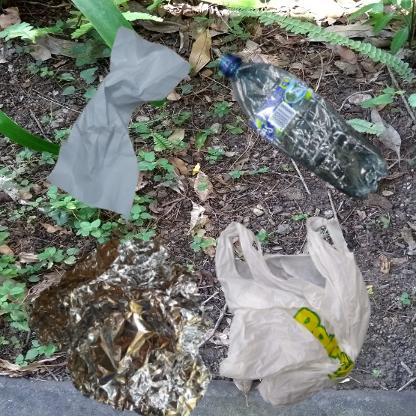aluminio: (10, 213, 246, 416)
bolsa: (213, 213, 375, 412)
botella: (213, 10, 416, 290)
papel: (10, 10, 240, 256)
